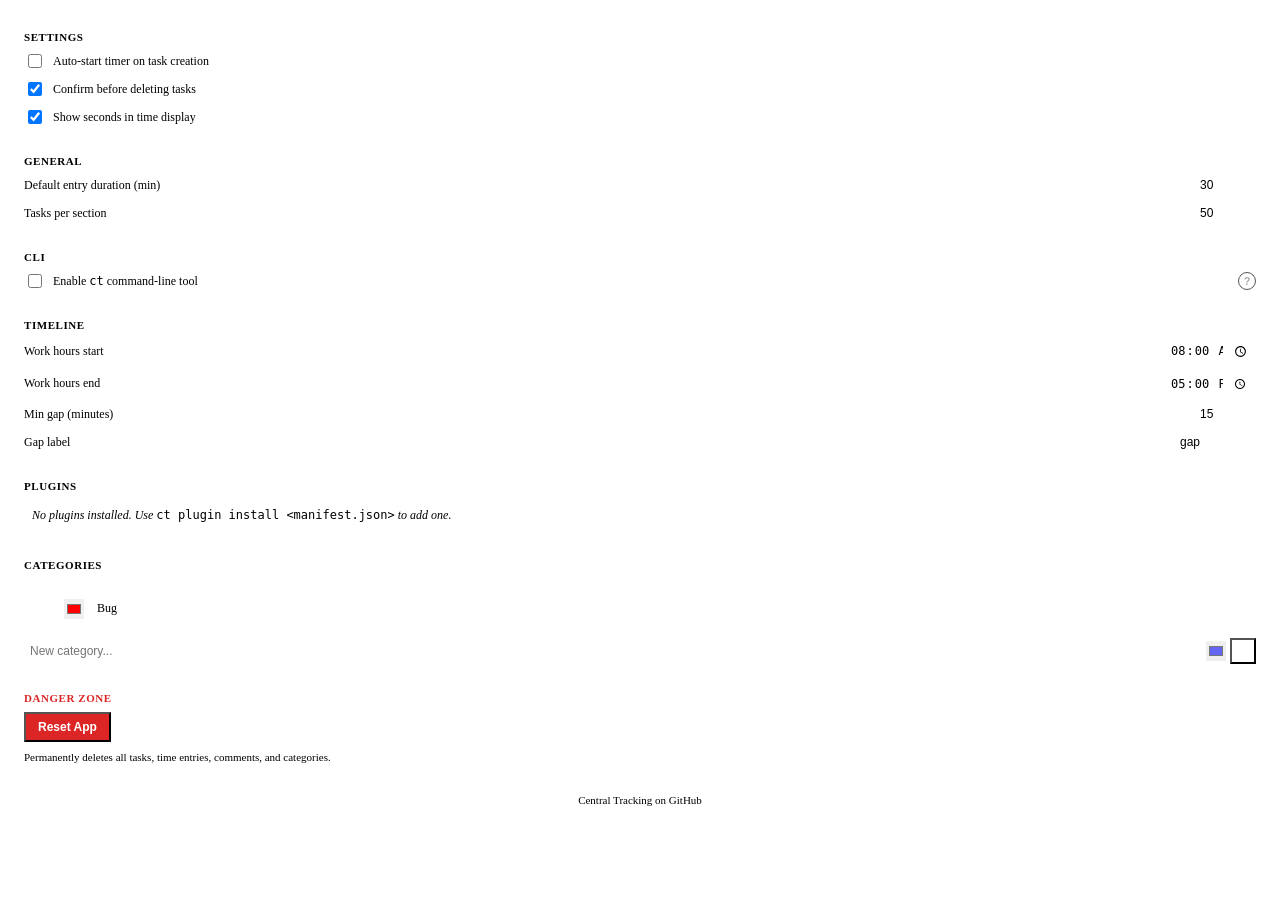
Scenario: OptionsMenu - renaming a category › does not save an emptied name
This screenshot has width=1280, height=900.
Clear the field named "Rename Bug": (658, 609) [92, 598, 1224, 619]
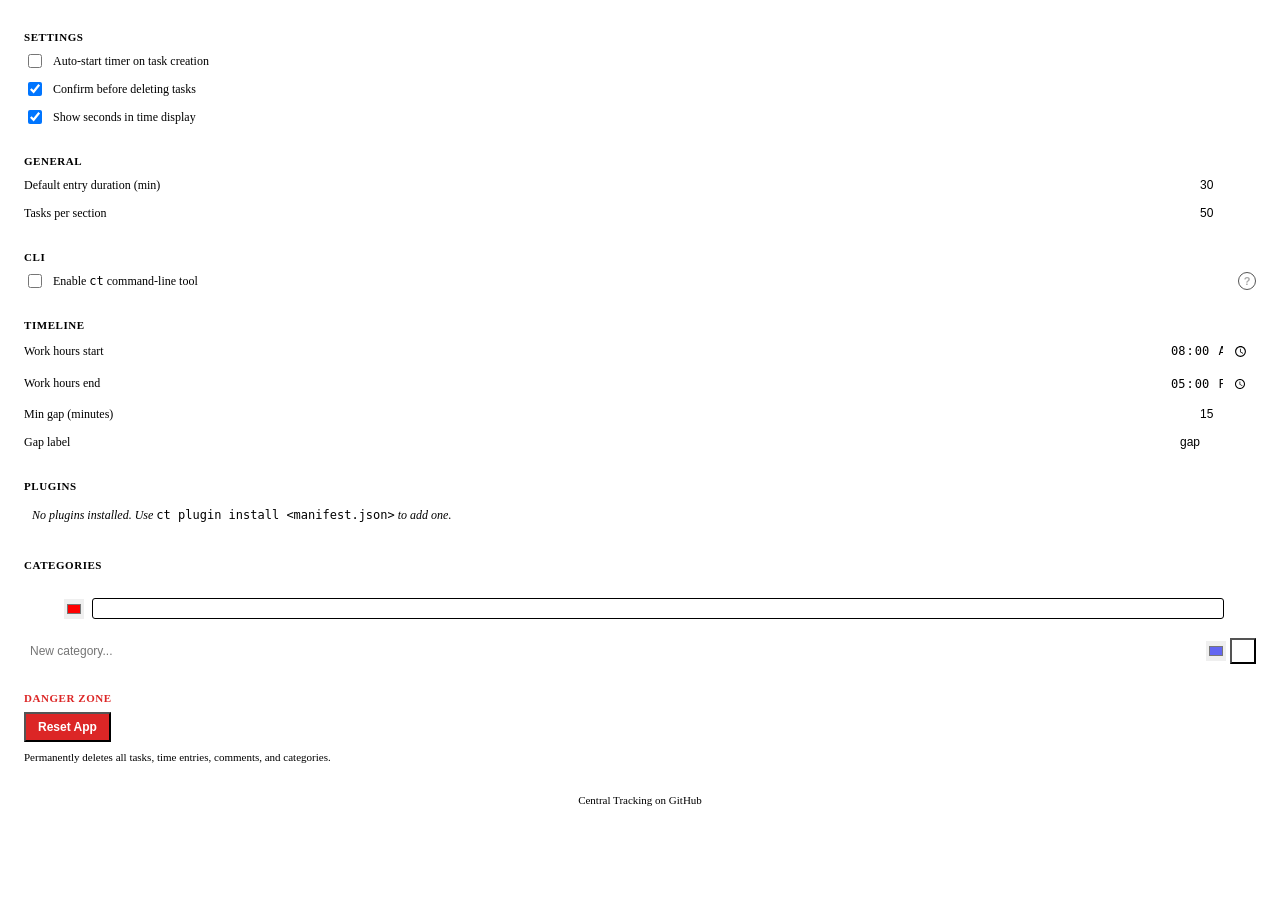
Press Tab
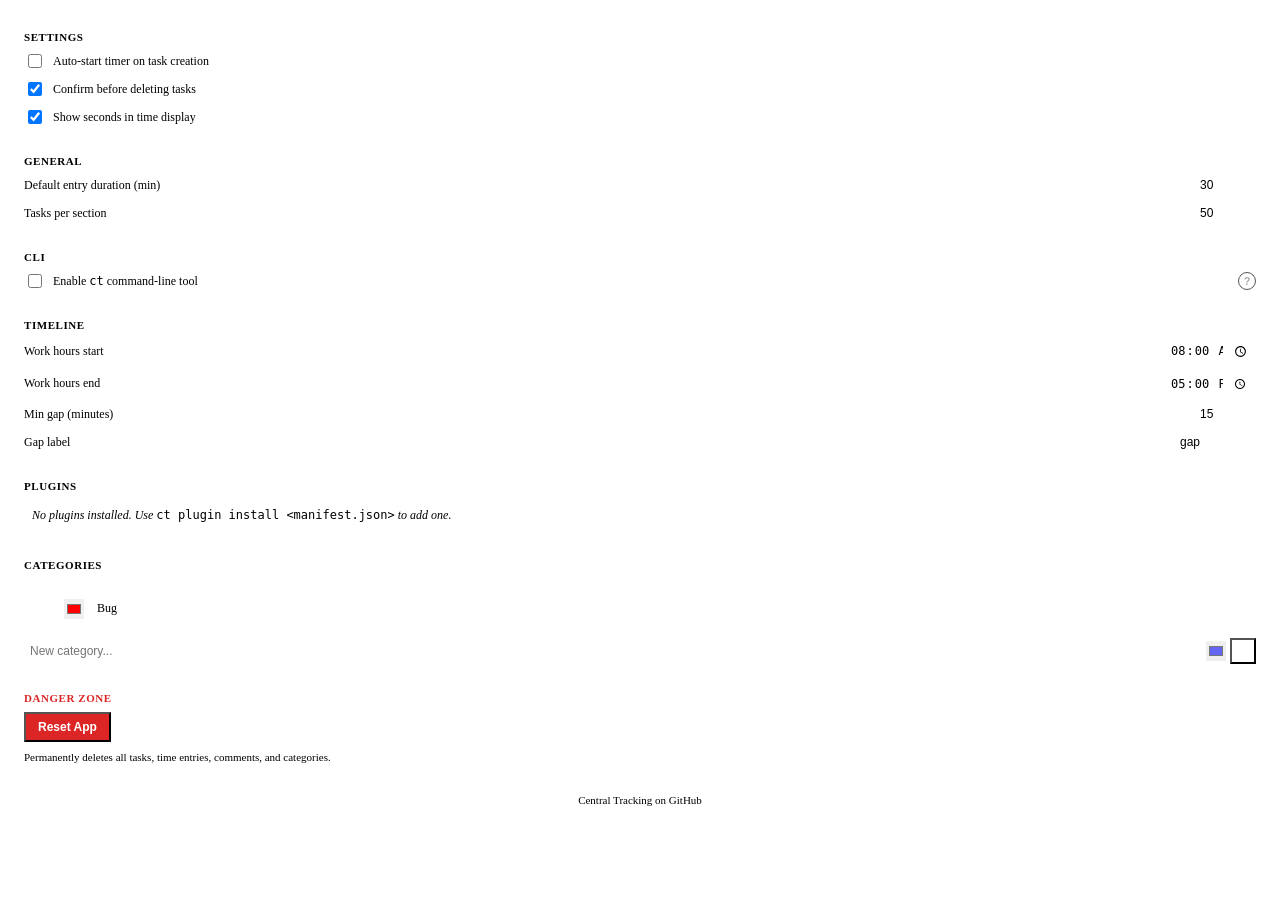
Expected: the field named "Rename Bug" holds "Bug", [92, 598, 1224, 619]
